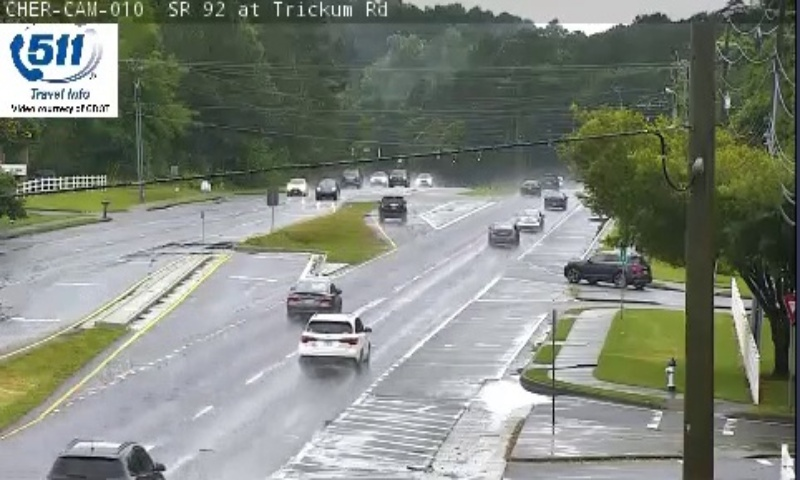car: (298, 312, 368, 359), (287, 277, 341, 315), (487, 221, 522, 247), (380, 193, 406, 219), (514, 209, 542, 232)
